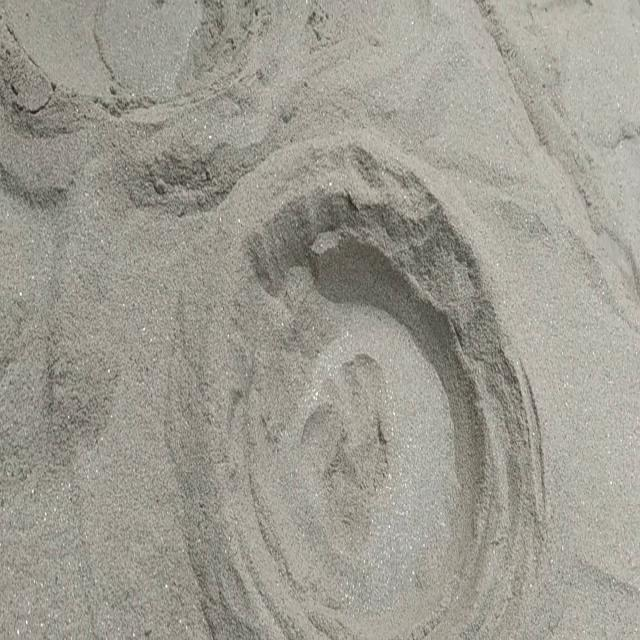C20: (168, 138, 545, 637)
